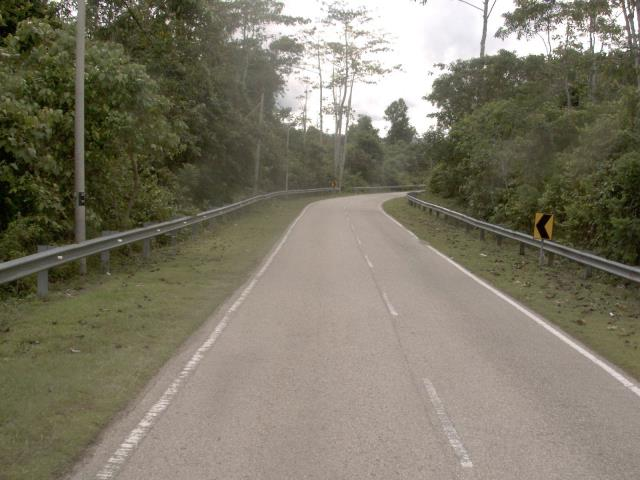traffic_sign: (528, 207, 559, 248)
